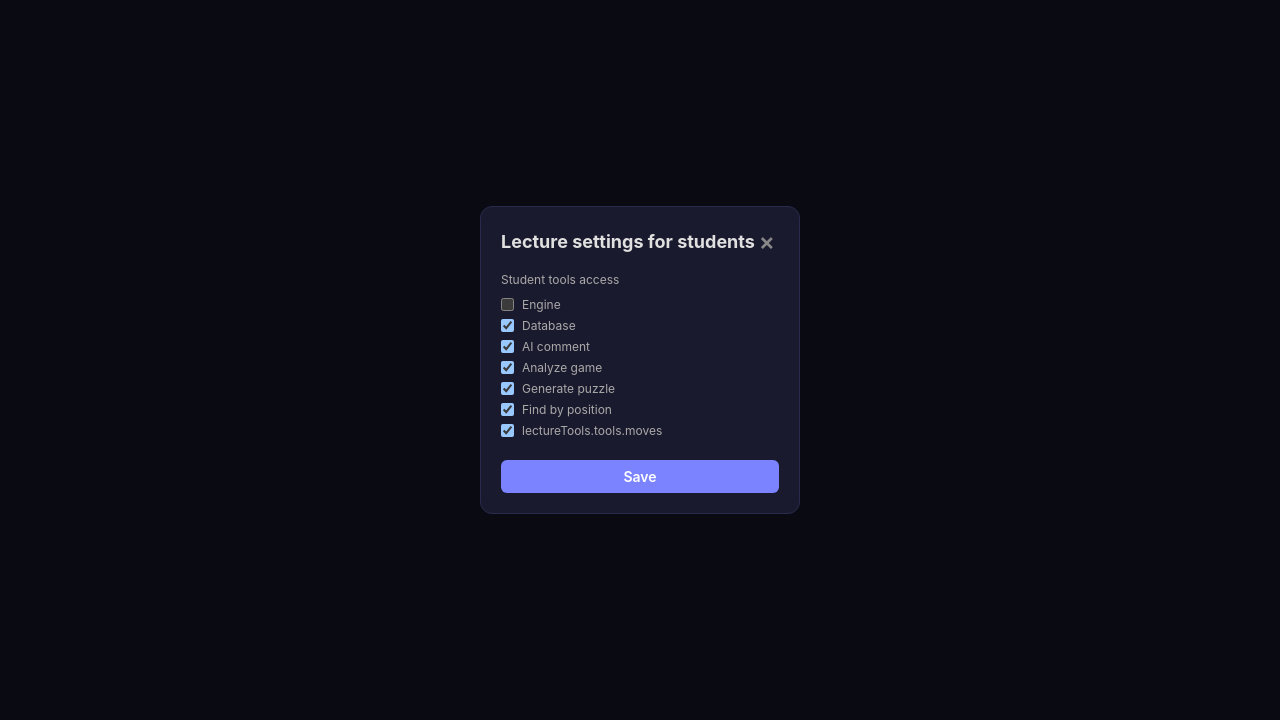
it: <LectureToolsSettingsModal> KS-3912 › ошибка PATCH откатывает локальное состояние галочек и показывает текст ошибки
The image size is (1280, 720).
Click the checkbox with test id "lecture-tools-settings-book" at (508, 326), box [501, 319, 514, 332]
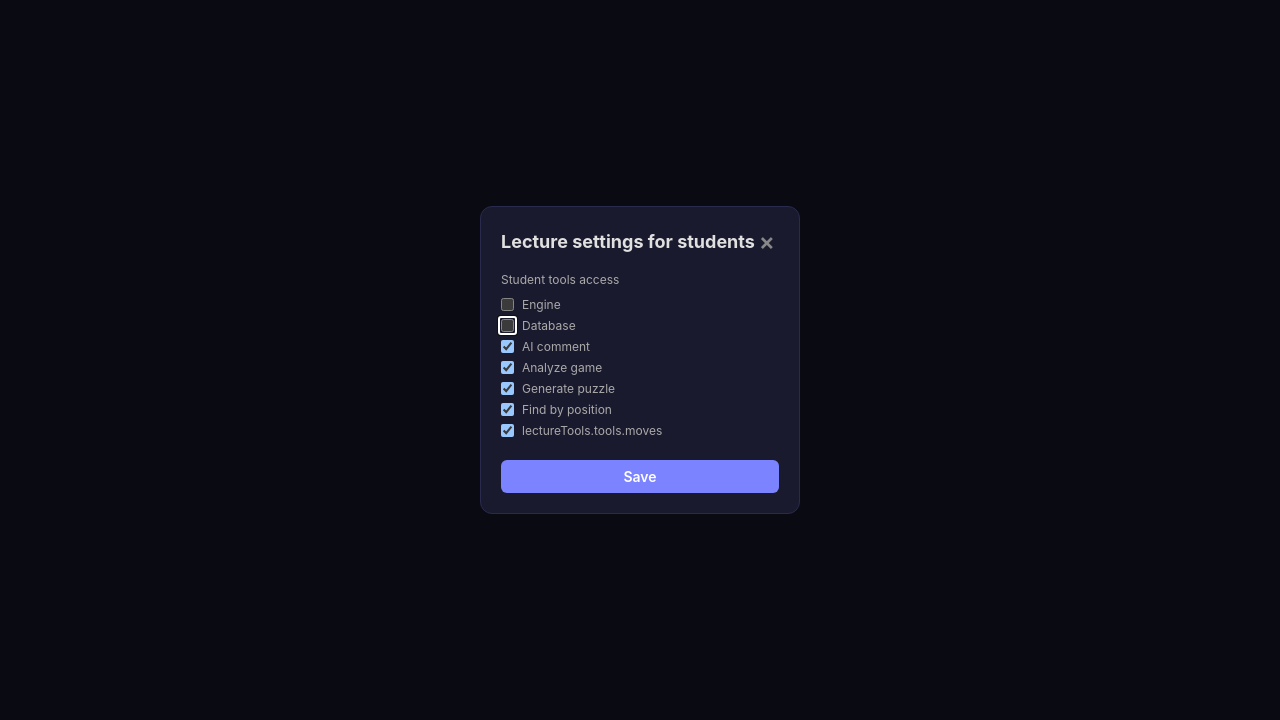
Expected: the checkbox with test id "lecture-tools-settings-book" is not checked, [501, 319, 514, 332]
Click the button with test id "lecture-tools-settings-save" at (640, 476), box [501, 460, 779, 493]
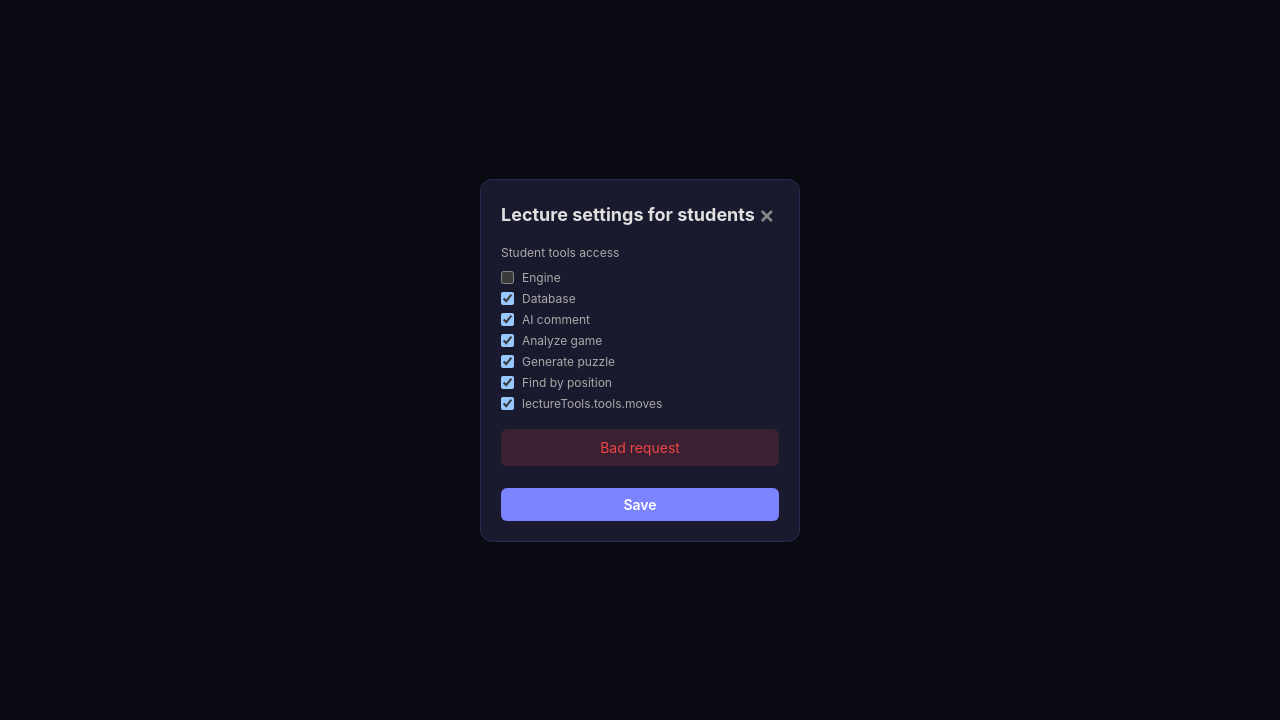
Expected: the checkbox with test id "lecture-tools-settings-engine" is not checked, [501, 270, 514, 284]
Expected: the checkbox with test id "lecture-tools-settings-book" is checked, [501, 292, 514, 304]
Expected: the text "Bad request" is shown, [501, 428, 779, 466]
